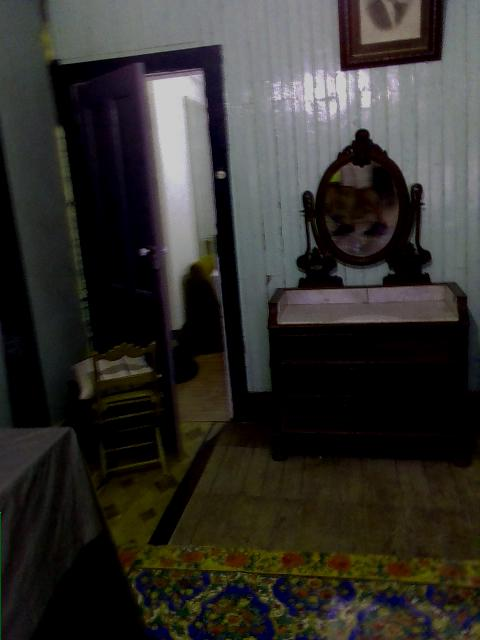semi_door: (43, 43, 251, 458)
